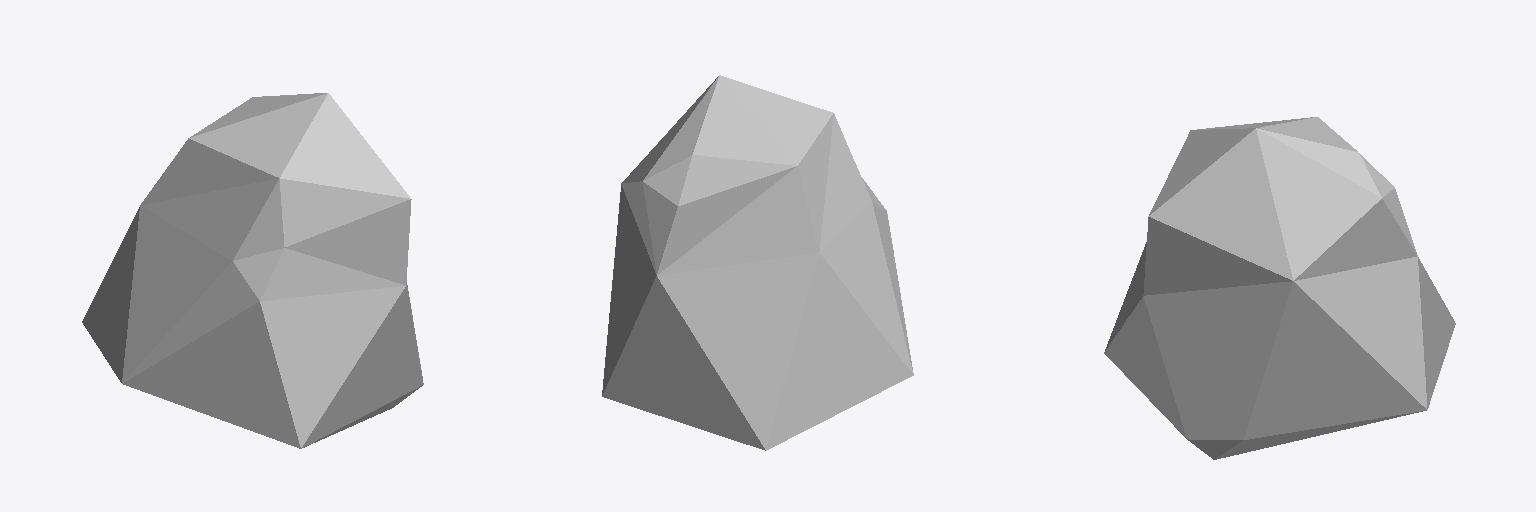
File: Gold_Nugget_Medium.obj
3 views of the same model, side by side, from view 1: azimuth 30°, elevation 25°; view 2: azimuth 150°, elevation 25°; view 3: azimuth 270°, elevation 25° (orthographic).
Parts seen in each view (by area): view 1: Gold_Nugget_Medium; view 2: Gold_Nugget_Medium; view 3: Gold_Nugget_Medium.
Boxes of the visible parts, box(x1,y1,x2,y2) form: Gold_Nugget_Medium: box(82, 93, 423, 448); Gold_Nugget_Medium: box(602, 75, 913, 450); Gold_Nugget_Medium: box(1104, 117, 1455, 459).
Size of the model in its own units: 0.2589 by 0.2781 by 0.2819.